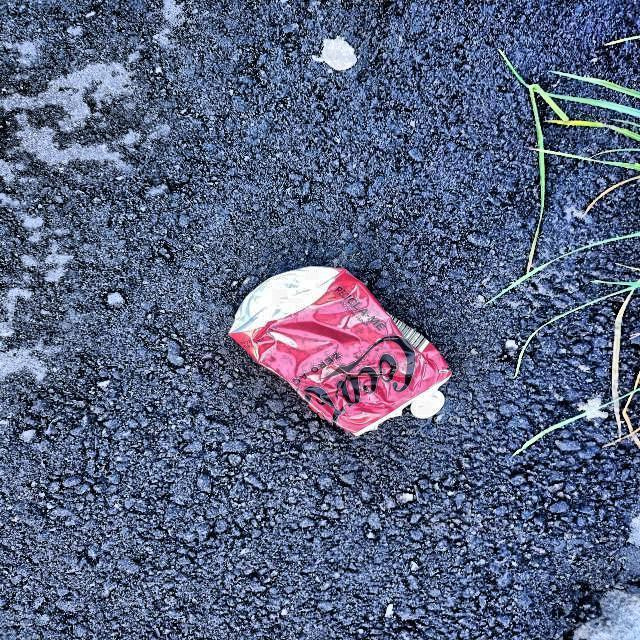metal: (228, 266, 453, 438)
